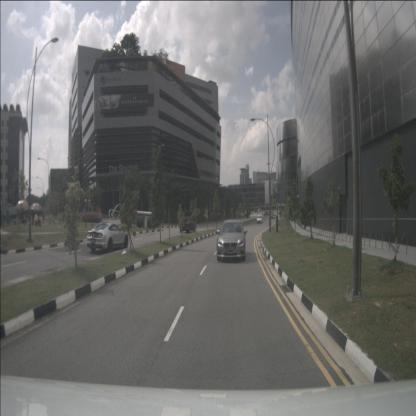human-pedestrian-adult: (34, 213, 38, 226), (170, 209, 173, 225), (38, 214, 41, 225)
vehicle-car: (216, 220, 246, 261), (87, 223, 128, 252), (180, 216, 196, 233), (256, 216, 262, 223)
vehicle-truck: (137, 210, 157, 230)
